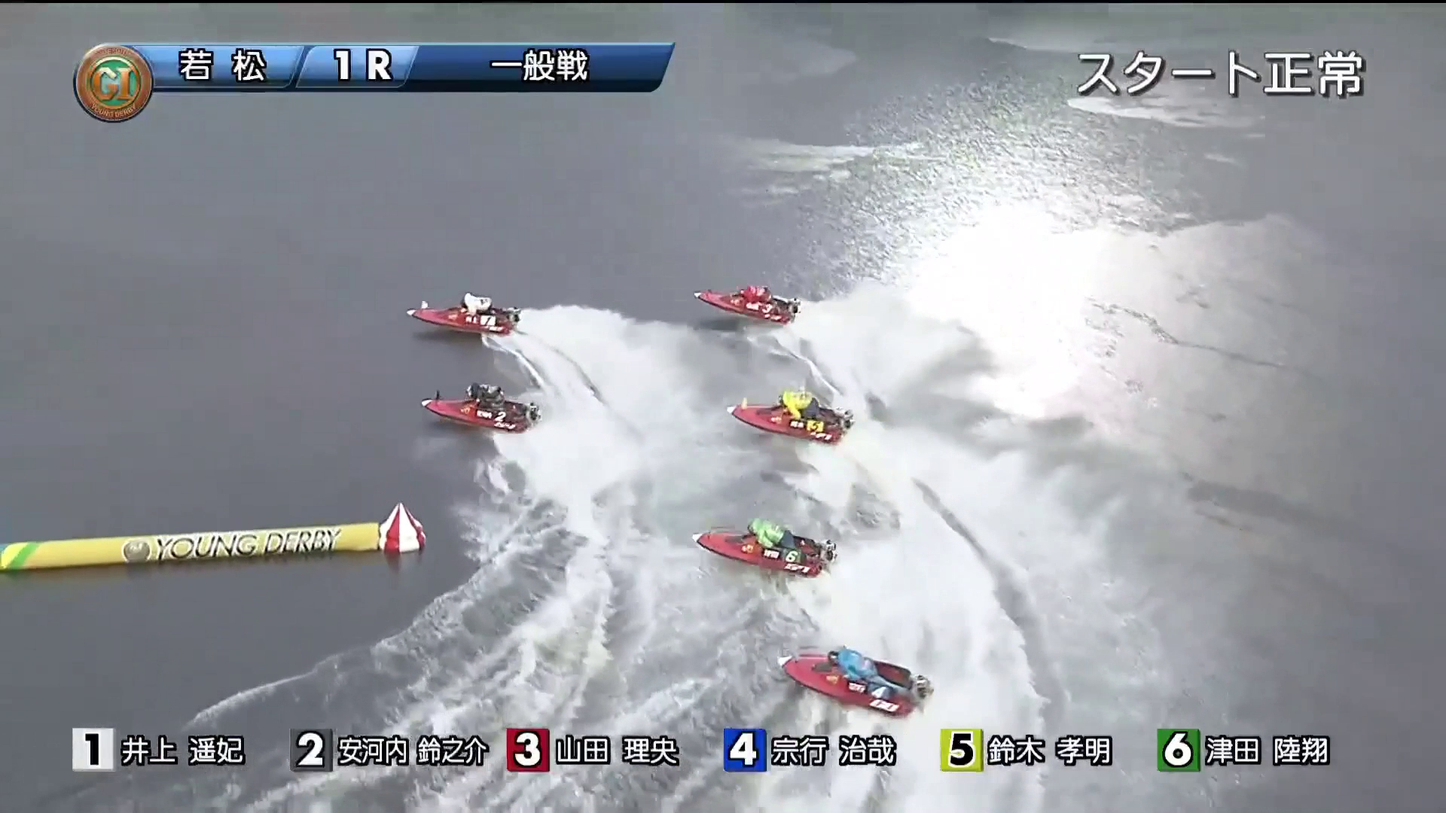１号艇: (449, 288, 519, 341)
２号艇: (425, 370, 554, 431)
３号艇: (708, 276, 806, 324)
４号艇: (720, 516, 854, 582)
５号艇: (800, 655, 924, 710)
６号艇: (741, 357, 841, 437)
